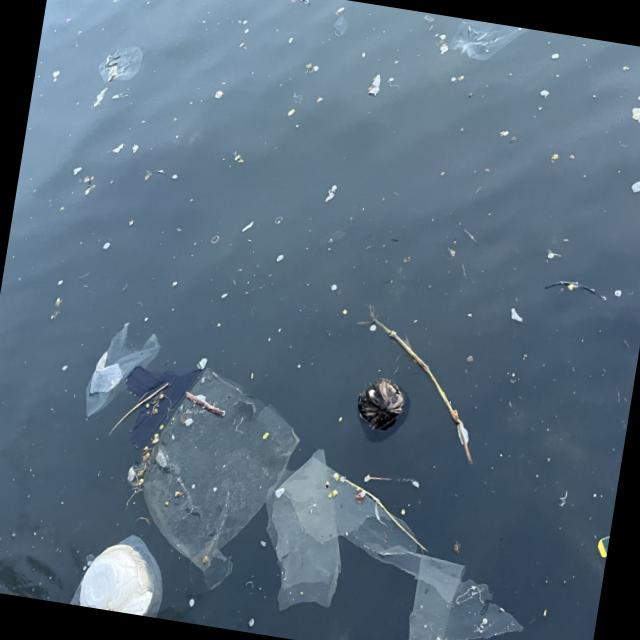foam: (80, 541, 160, 617)
plastic bag: (137, 364, 298, 584), (87, 320, 159, 416), (443, 20, 525, 63), (97, 47, 144, 85)
